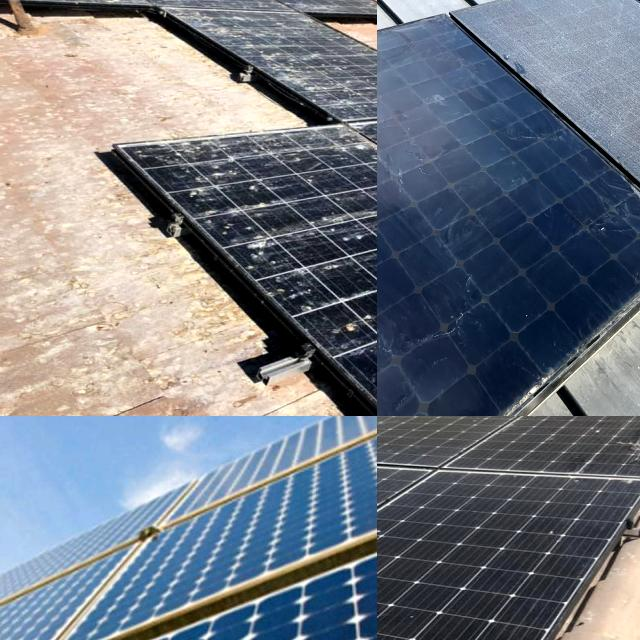bird: (206, 17, 377, 89), (168, 138, 272, 250), (329, 205, 377, 309), (298, 143, 377, 190)
crack: (0, 528, 377, 640)
dust: (460, 102, 634, 287), (377, 25, 450, 379), (528, 6, 640, 101), (454, 304, 556, 374), (593, 416, 640, 464), (591, 0, 637, 8)
